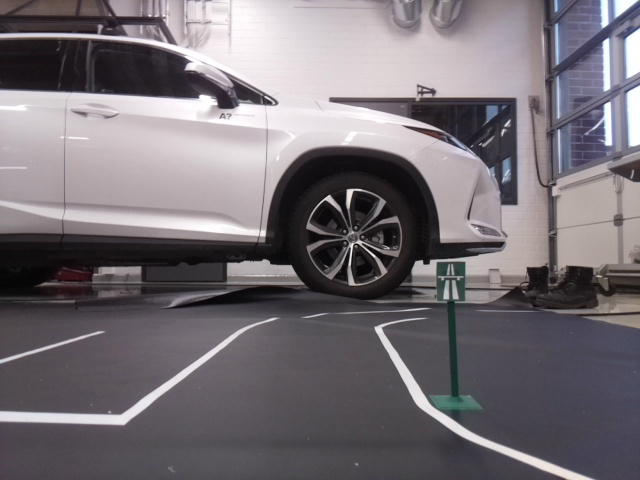HighwayEntrance: (436, 262, 463, 301)
